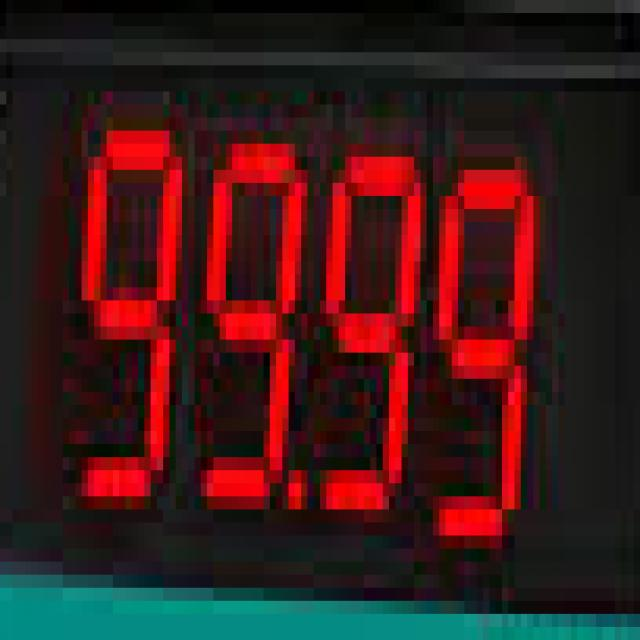9: (69, 90, 185, 514), (195, 107, 304, 519), (435, 136, 540, 554), (319, 125, 424, 534)
screen: (2, 49, 640, 610)
